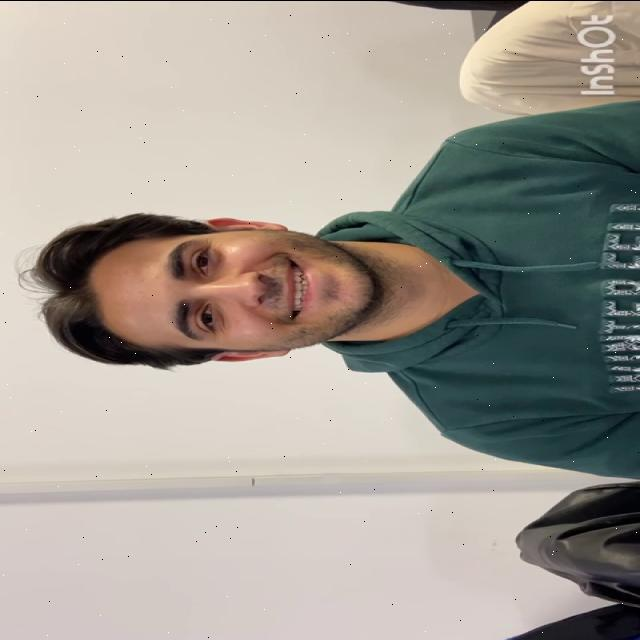happy: (90, 228, 378, 352)
